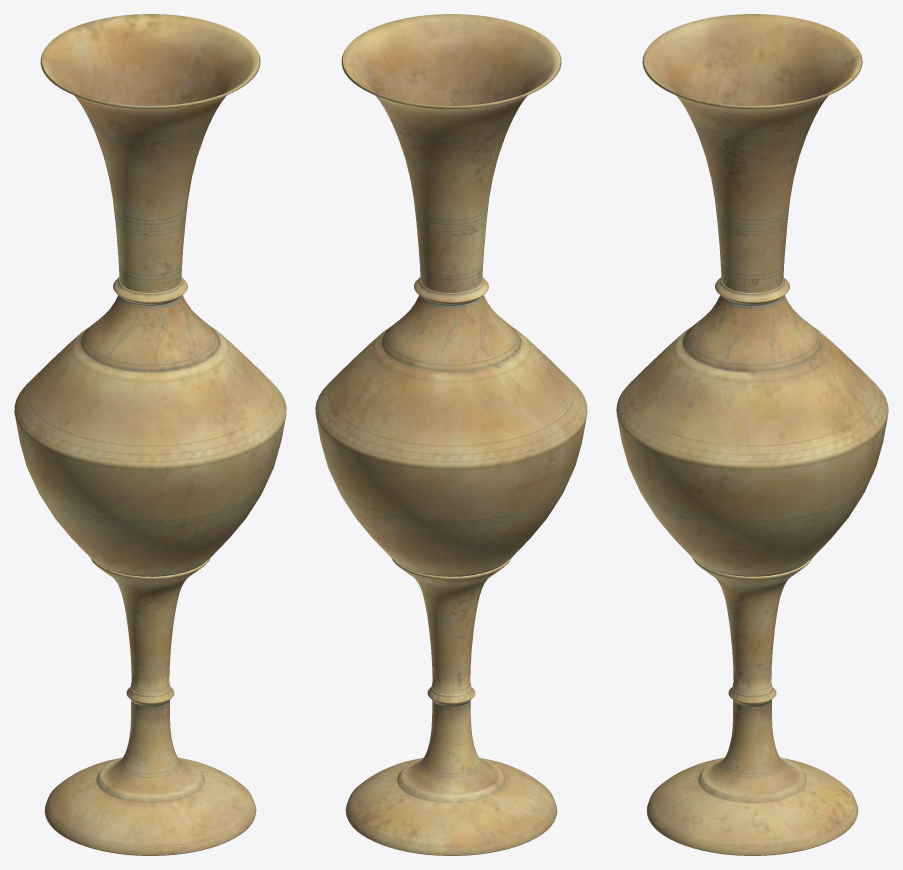
The model's file is ph_brass_vase_01.glb.
3 renders of one model, left to right at view 1: azimuth 30°, elevation 25°; view 2: azimuth 150°, elevation 25°; view 3: azimuth 270°, elevation 25°, orthographic.
Parts seen in each view (by area): view 1: brass_vase_01; view 2: brass_vase_01; view 3: brass_vase_01.
Part boxes in pixels (x1=…): brass_vase_01: x1=14, y1=14, x2=286, y2=855; brass_vase_01: x1=315, y1=14, x2=587, y2=855; brass_vase_01: x1=616, y1=14, x2=888, y2=855.
Size of the model in its own units: 0.2273 by 0.6925 by 0.2273.
Materials: 1 (1 with a texture image).
